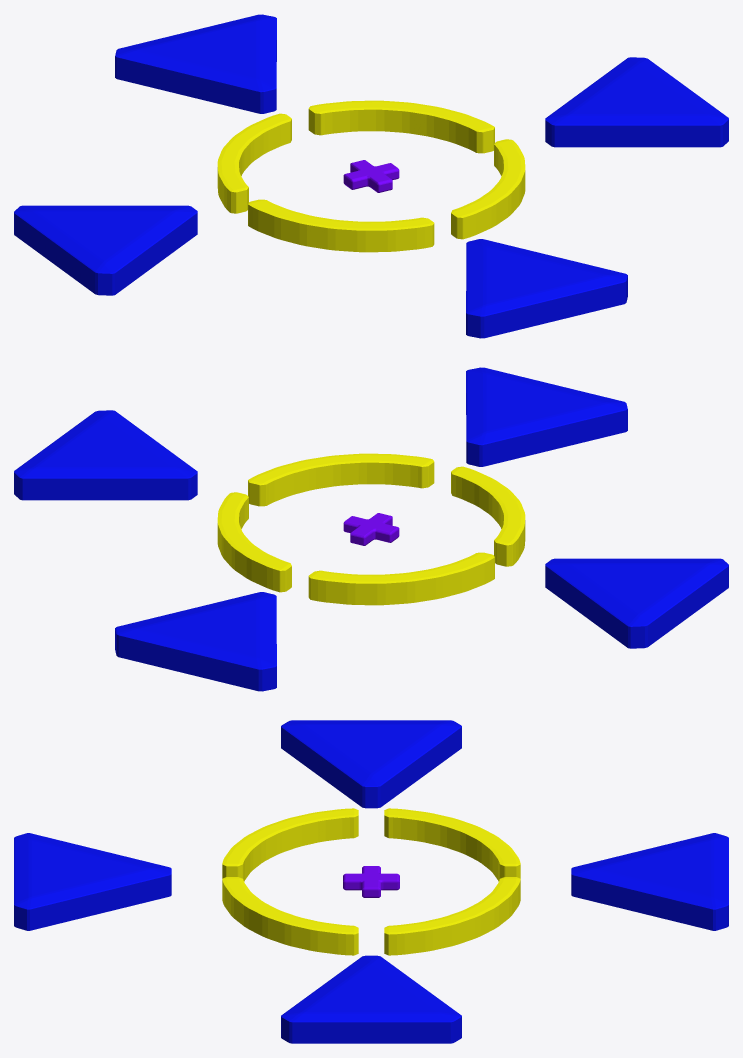
The model's file is ConcentratePoint.fbx.
3 renders of one model, top to bottom at view 1: azimuth 30°, elevation 25°; view 2: azimuth 150°, elevation 25°; view 3: azimuth 270°, elevation 25°, orthographic. The views are drawn at different scales.
Visible parts, largest first — view 1: Cycle, RotateCube1, RotateCube2, RotateCube3, RotateCube4, CnterPoint; view 2: Cycle, RotateCube1, RotateCube2, RotateCube3, RotateCube4, CnterPoint; view 3: Cycle, RotateCube1, RotateCube2, RotateCube3, RotateCube4, CnterPoint.
Part boxes in pixels (<box>): Cycle: <box>217,100,525,252</box>; RotateCube1: <box>14,205,197,295</box>; RotateCube2: <box>545,57,728,147</box>; RotateCube3: <box>466,239,627,338</box>; RotateCube4: <box>115,14,276,113</box>; CnterPoint: <box>343,160,399,192</box>; Cycle: <box>217,453,525,605</box>; RotateCube1: <box>545,558,728,648</box>; RotateCube2: <box>14,410,197,500</box>; RotateCube3: <box>466,367,627,466</box>; RotateCube4: <box>115,592,276,691</box>; CnterPoint: <box>343,513,399,545</box>; Cycle: <box>222,808,520,955</box>; RotateCube1: <box>281,720,461,808</box>; RotateCube2: <box>281,955,461,1043</box>; RotateCube3: <box>14,833,171,930</box>; RotateCube4: <box>571,833,728,930</box>; CnterPoint: <box>343,866,399,897</box>.
Size of the model in its own units: 527 by 21.87 by 527.
